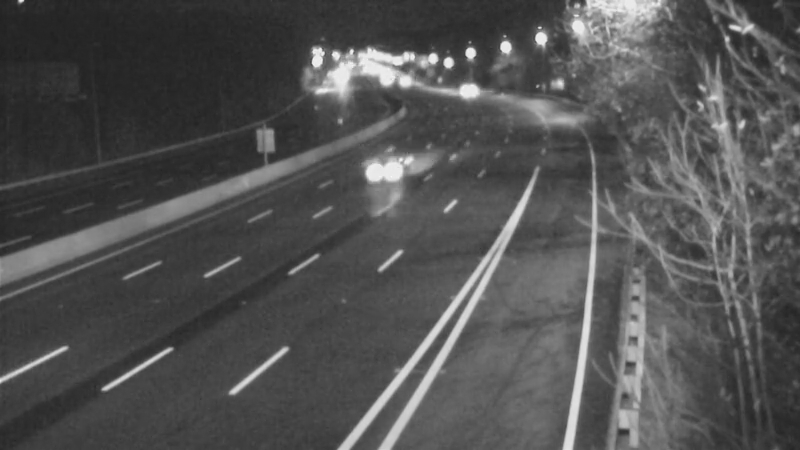vehicle: (344, 129, 424, 209), (379, 57, 429, 107), (440, 63, 490, 113)
